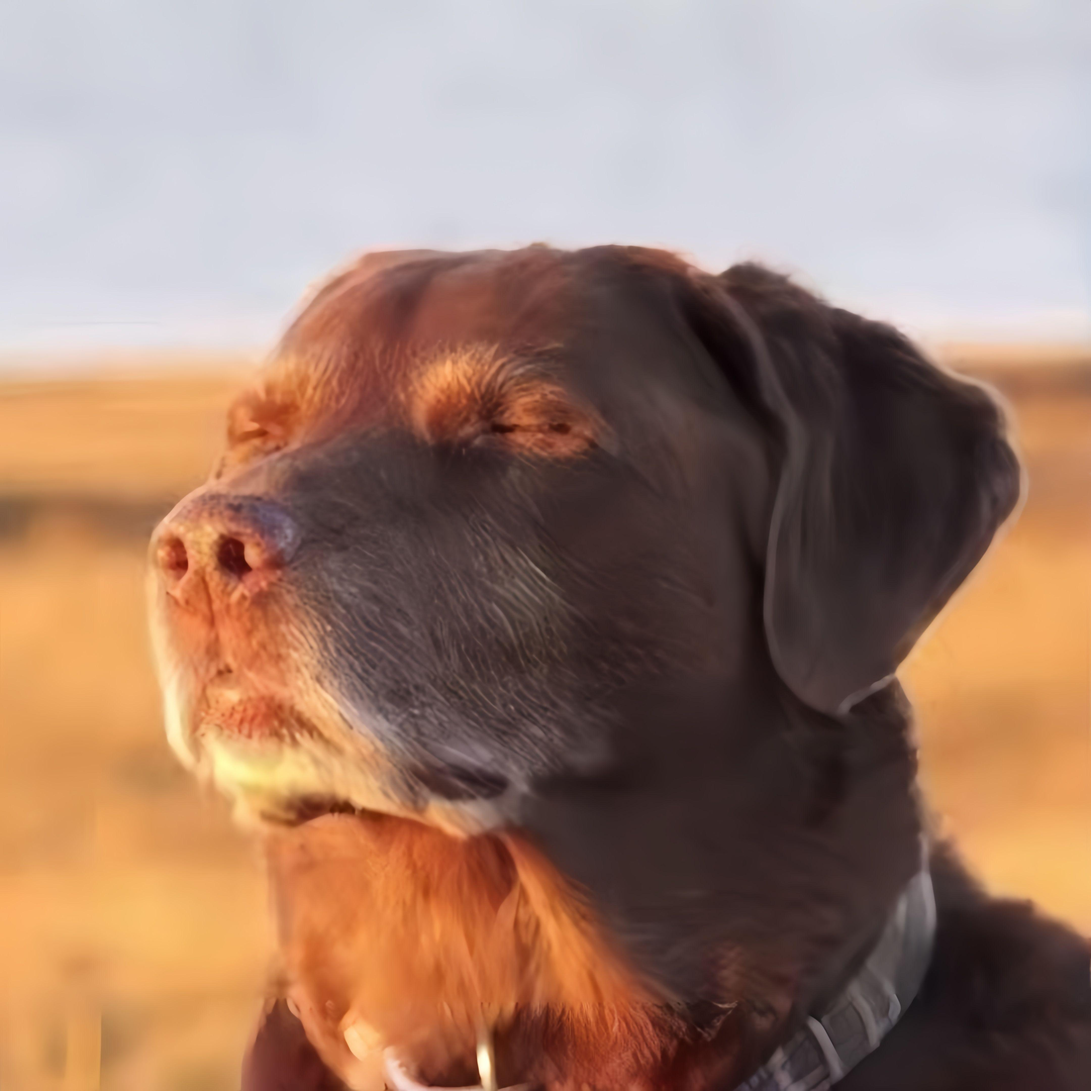adult_dog: (147, 241, 1091, 1091)
